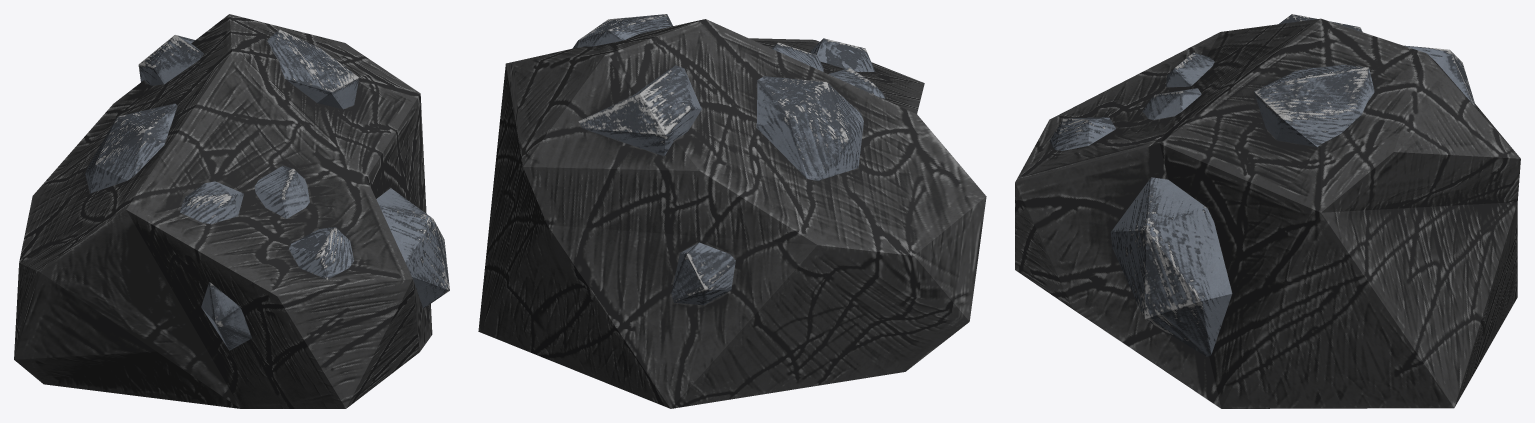
The model's file is stylized_iron_ore_-_game_ready.glb.
3 views of the same model, side by side, from view 1: azimuth 30°, elevation 25°; view 2: azimuth 150°, elevation 25°; view 3: azimuth 270°, elevation 25° (orthographic). The views are drawn at different scales.
Parts seen in each view (by area): view 1: Rock_low, Ore_low; view 2: Rock_low, Ore_low; view 3: Rock_low, Ore_low.
Boxes of the visible parts, x1=… form: Rock_low: x1=14, y1=14, x2=432, y2=408; Ore_low: x1=85, y1=29, x2=449, y2=350; Rock_low: x1=478, y1=19, x2=986, y2=408; Ore_low: x1=572, y1=14, x2=885, y2=305; Rock_low: x1=1015, y1=18, x2=1520, y2=408; Ore_low: x1=1049, y1=14, x2=1475, y2=356.
Size of the model in its own units: 2.81 by 2.14 by 2.7.
Materials: 1 (1 with a texture image).
